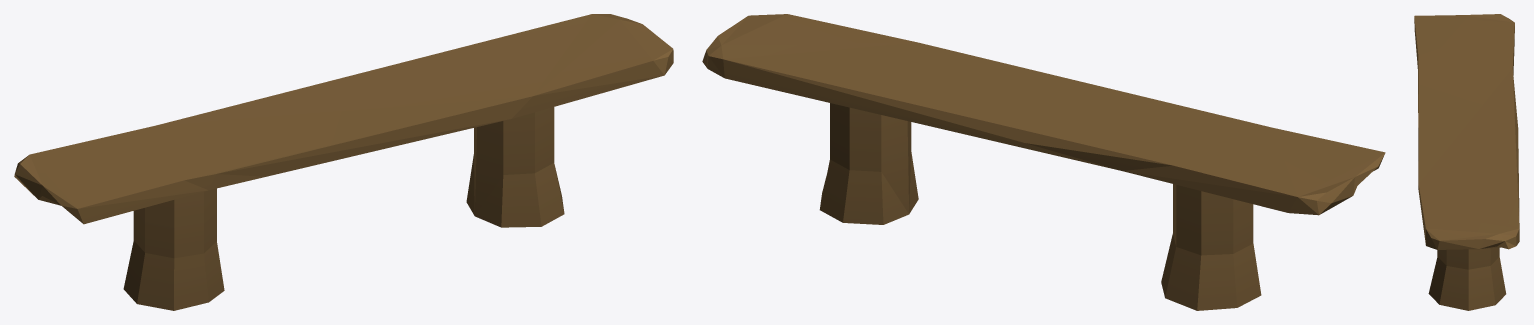
File: Bench_02.fbx
The picture shows the model from 3 angles, left to right: view 1: azimuth 30°, elevation 25°; view 2: azimuth 150°, elevation 25°; view 3: azimuth 270°, elevation 25°; orthographic projection. The views are drawn at different scales.
Visible parts, largest first — view 1: Bench_02; view 2: Bench_02; view 3: Bench_02.
Part boxes in pixels (left/top/right/bottom): Bench_02: left=14, top=14, right=673, bottom=310; Bench_02: left=702, top=14, right=1385, bottom=310; Bench_02: left=1414, top=14, right=1519, bottom=310.
Size of the model in its own units: 2.05 by 0.4521 by 0.4038.
